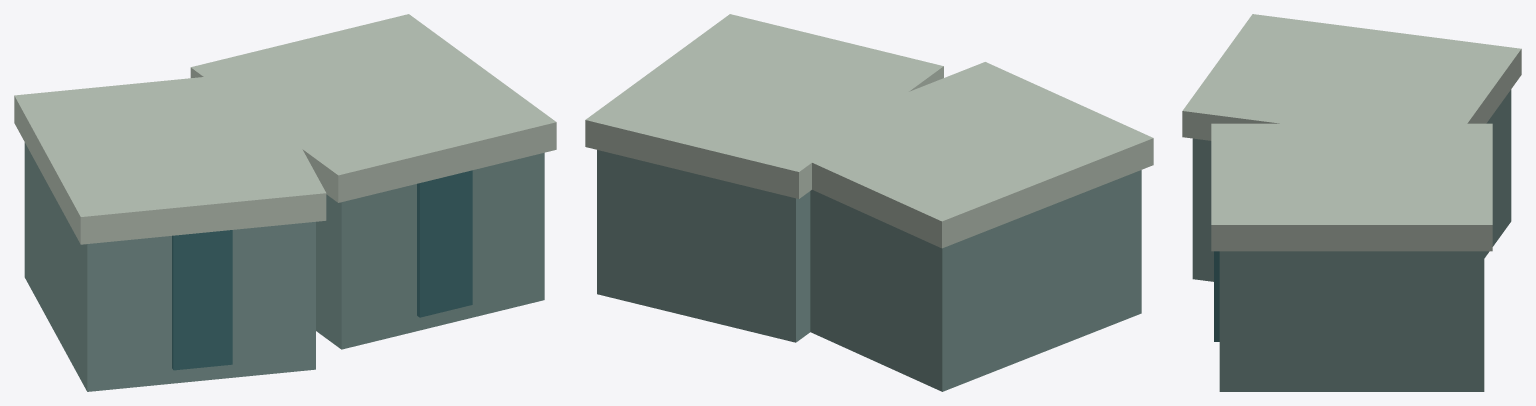
Rendered from pile-chilledVegetable-2.gltf.
3 renders of one model, left to right at view 1: azimuth 30°, elevation 25°; view 2: azimuth 150°, elevation 25°; view 3: azimuth 270°, elevation 25°, orthographic. The views are drawn at different scales.
Visible parts, largest first — view 1: pile-chilledVegetable-2; view 2: pile-chilledVegetable-2; view 3: pile-chilledVegetable-2.
Part boxes in pixels (x1,y1,x2,y2): pile-chilledVegetable-2: (14,14,556,391); pile-chilledVegetable-2: (585,14,1153,391); pile-chilledVegetable-2: (1182,14,1521,391).
Bounding box in the file's own units: 0.6034 × 0.2275 × 0.4099.
